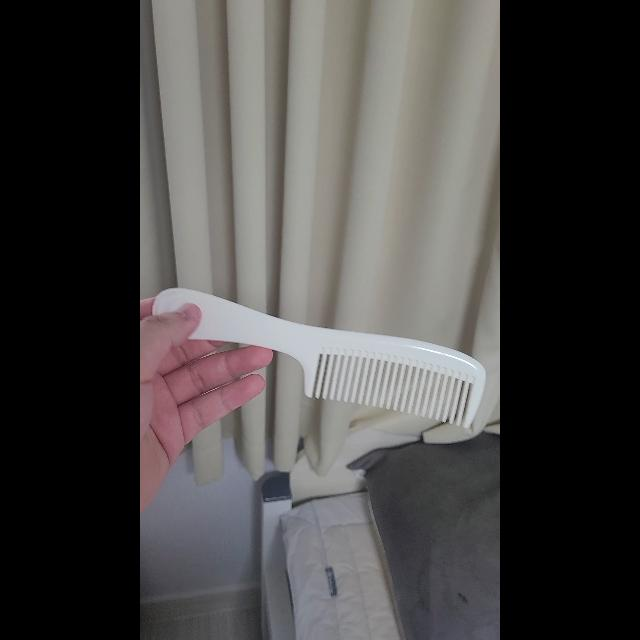COMB: (151, 286, 487, 429)
